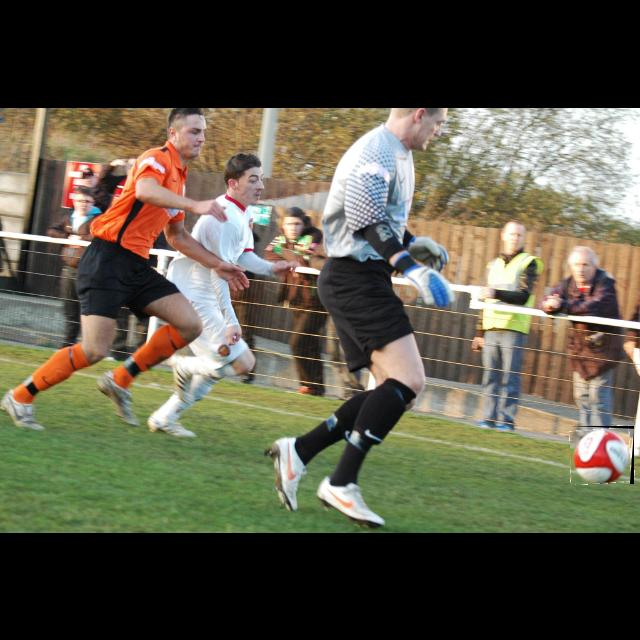Football: (570, 426, 634, 484)
